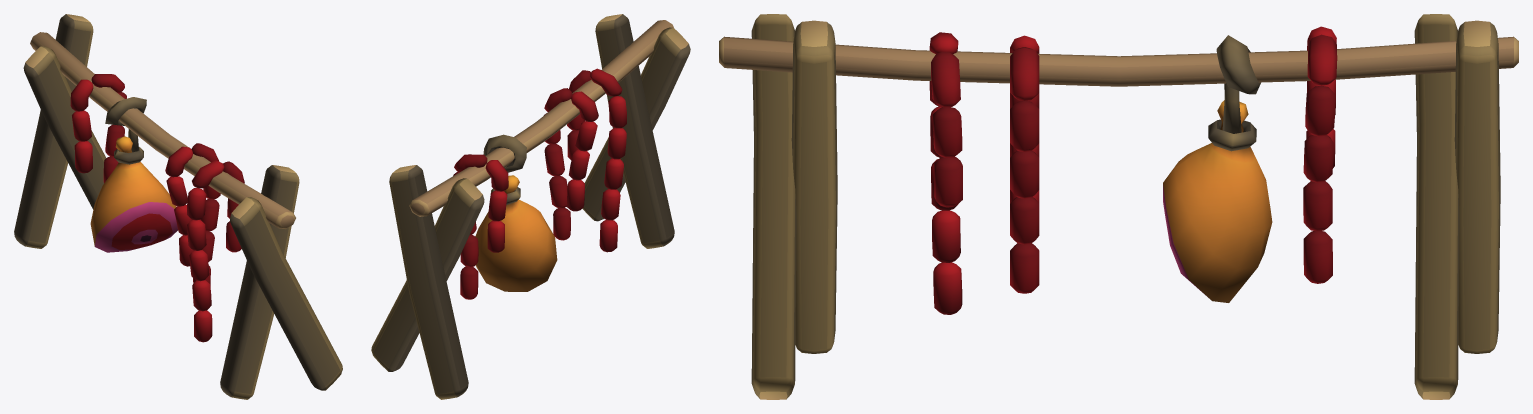
The model's file is stove1.fbx.
3 renders of one model, left to right at view 1: azimuth 30°, elevation 25°; view 2: azimuth 150°, elevation 25°; view 3: azimuth 270°, elevation 25°, orthographic. The views are drawn at different scales.
Parts seen in each view (by area): view 1: stove1; view 2: stove1; view 3: stove1.
Boxes of the visible parts, x1,y1,x2,y2 form: stove1: (14, 14, 342, 399); stove1: (371, 14, 690, 399); stove1: (719, 14, 1518, 399).
Size of the model in its own units: 79.52 by 154 by 312.
1 material, 1 textured.
